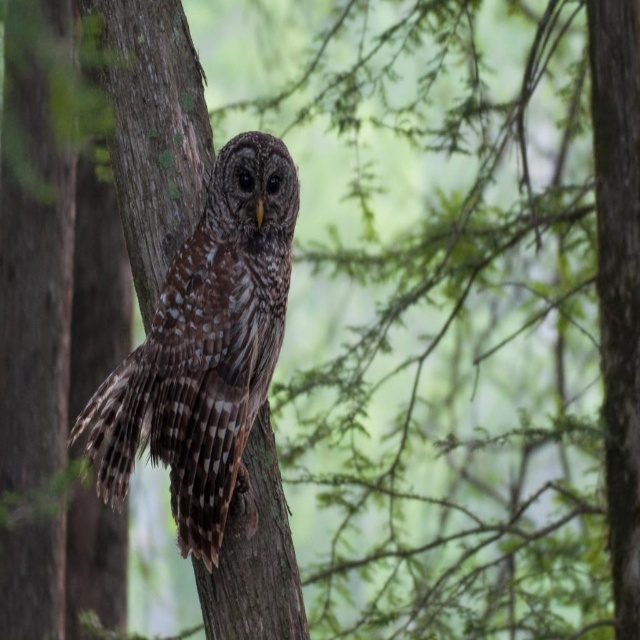Owl: (65, 131, 301, 574)
